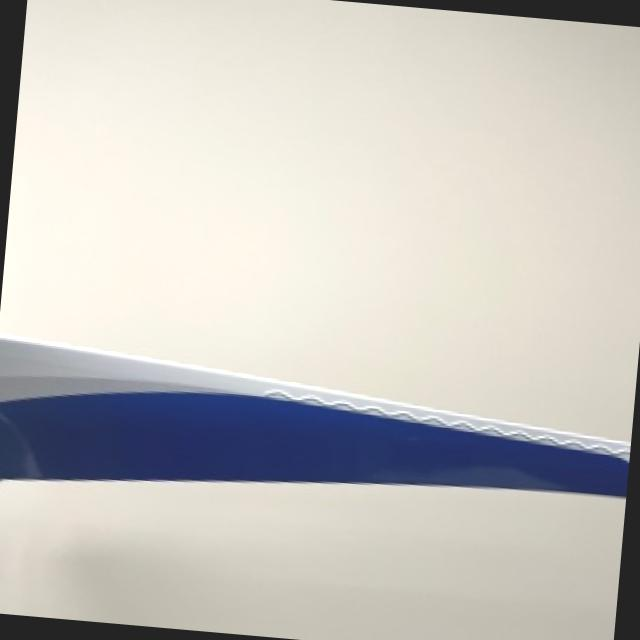healthy: (0, 335, 631, 495)
